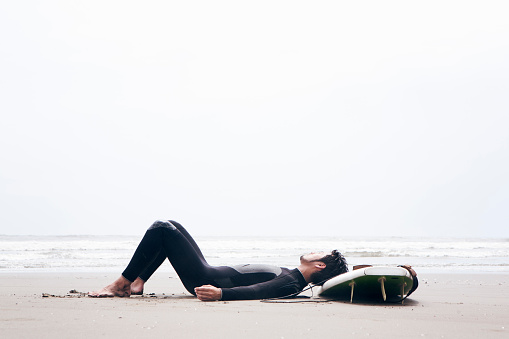deitado: (84, 168, 250, 300)
